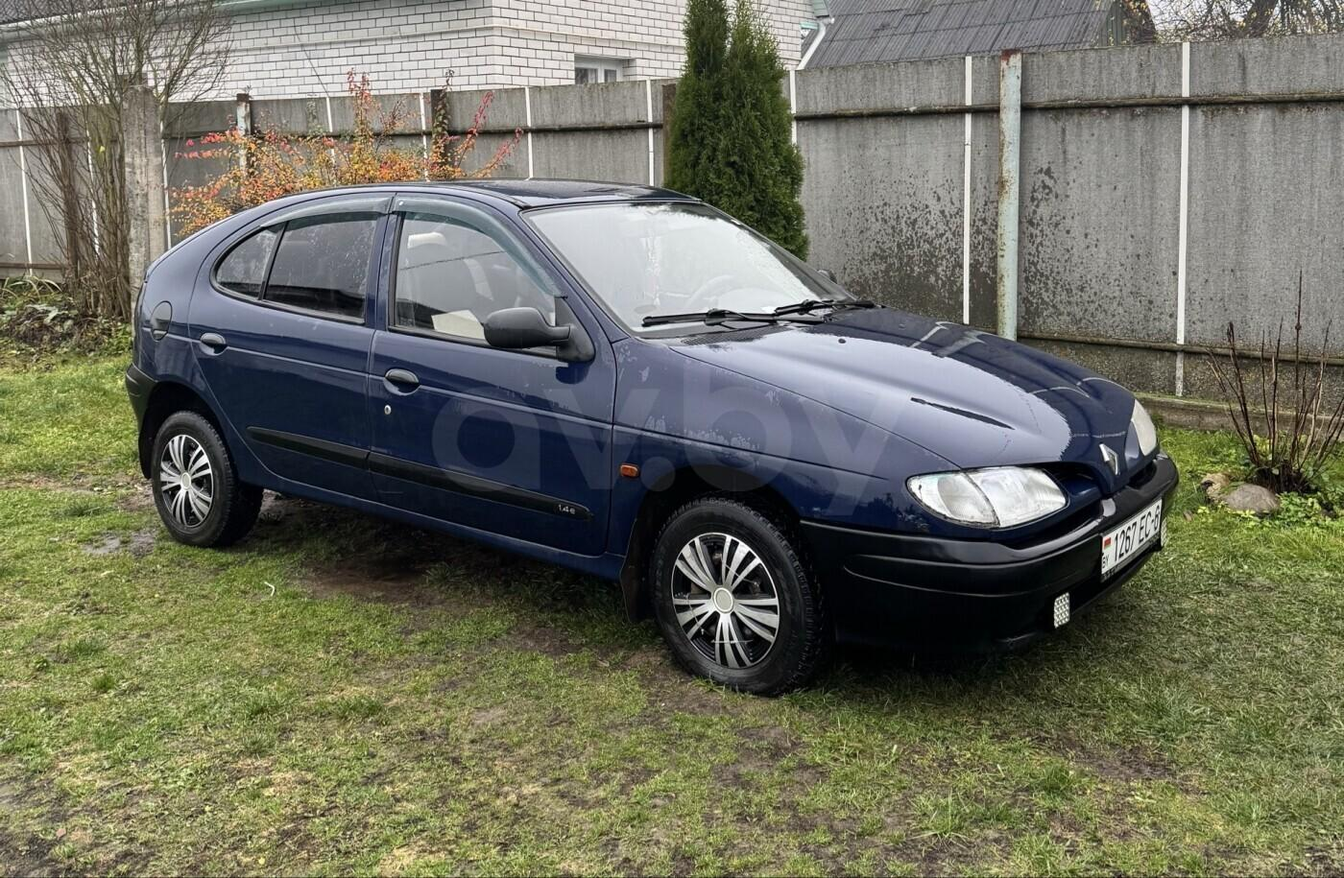Megane_1995-1999: (125, 173, 1181, 712)
